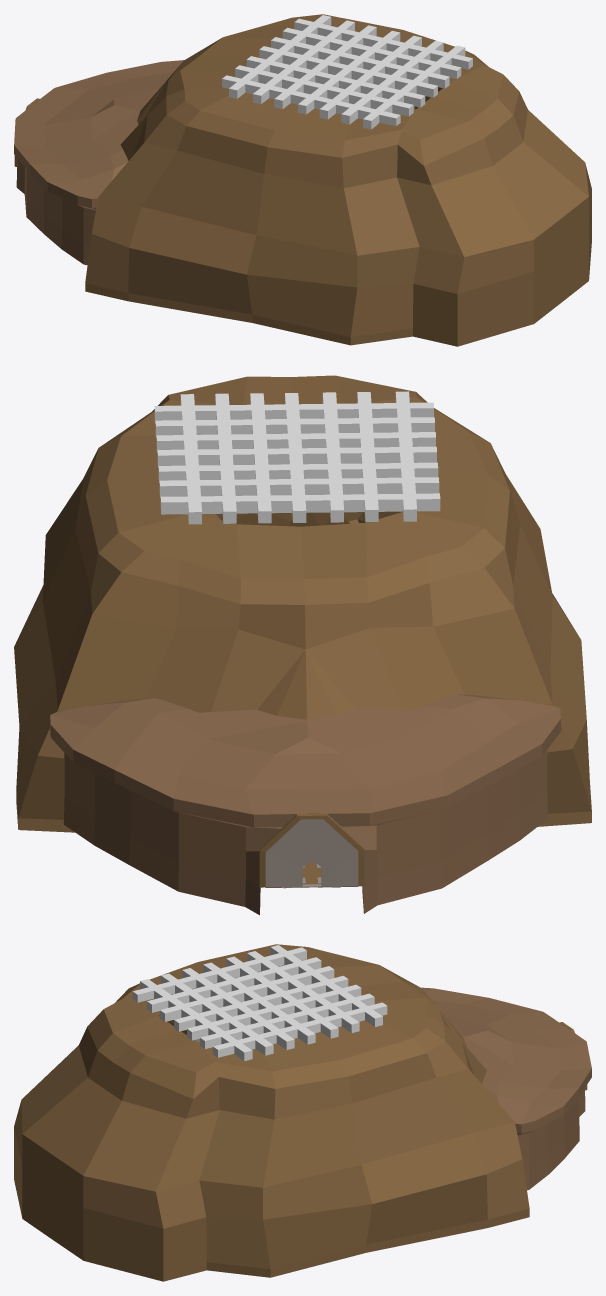
File: cavespawn.fbx
3 views of the same model, one above another, from view 1: azimuth 30°, elevation 25°; view 2: azimuth 150°, elevation 25°; view 3: azimuth 270°, elevation 25° (orthographic). The views are drawn at different scales.
Visible parts, largest first — view 1: Cube.007, Cube.017; view 2: Cube.007, Cube.017, Plane.007; view 3: Cube.007, Cube.017.
Boxes of the visible parts, x1=… form: Cube.007: x1=14, y1=14, x2=591, y2=346; Cube.017: x1=222, y1=15, x2=472, y2=129; Cube.007: x1=14, y1=375, x2=591, y2=915; Cube.017: x1=154, y1=391, x2=440, y2=524; Plane.007: x1=259, y1=813, x2=364, y2=887; Cube.007: x1=14, y1=944, x2=591, y2=1281; Cube.017: x1=132, y1=945, x2=387, y2=1060.
Bounding box in the file's own units: 4510 × 2014 × 5188.
